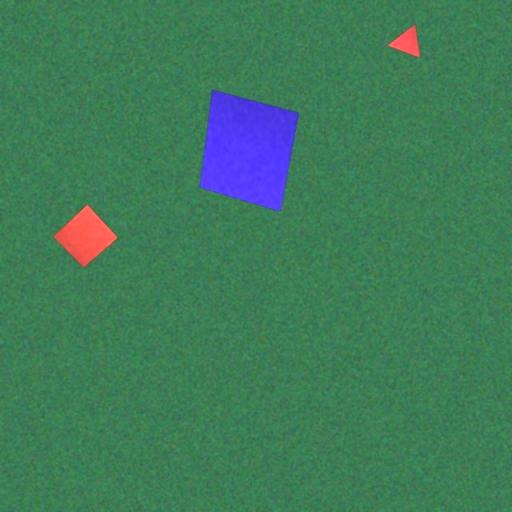BLUE_SQUARE: (199, 90, 300, 212)
RED_SQUARE: (53, 203, 119, 269)
